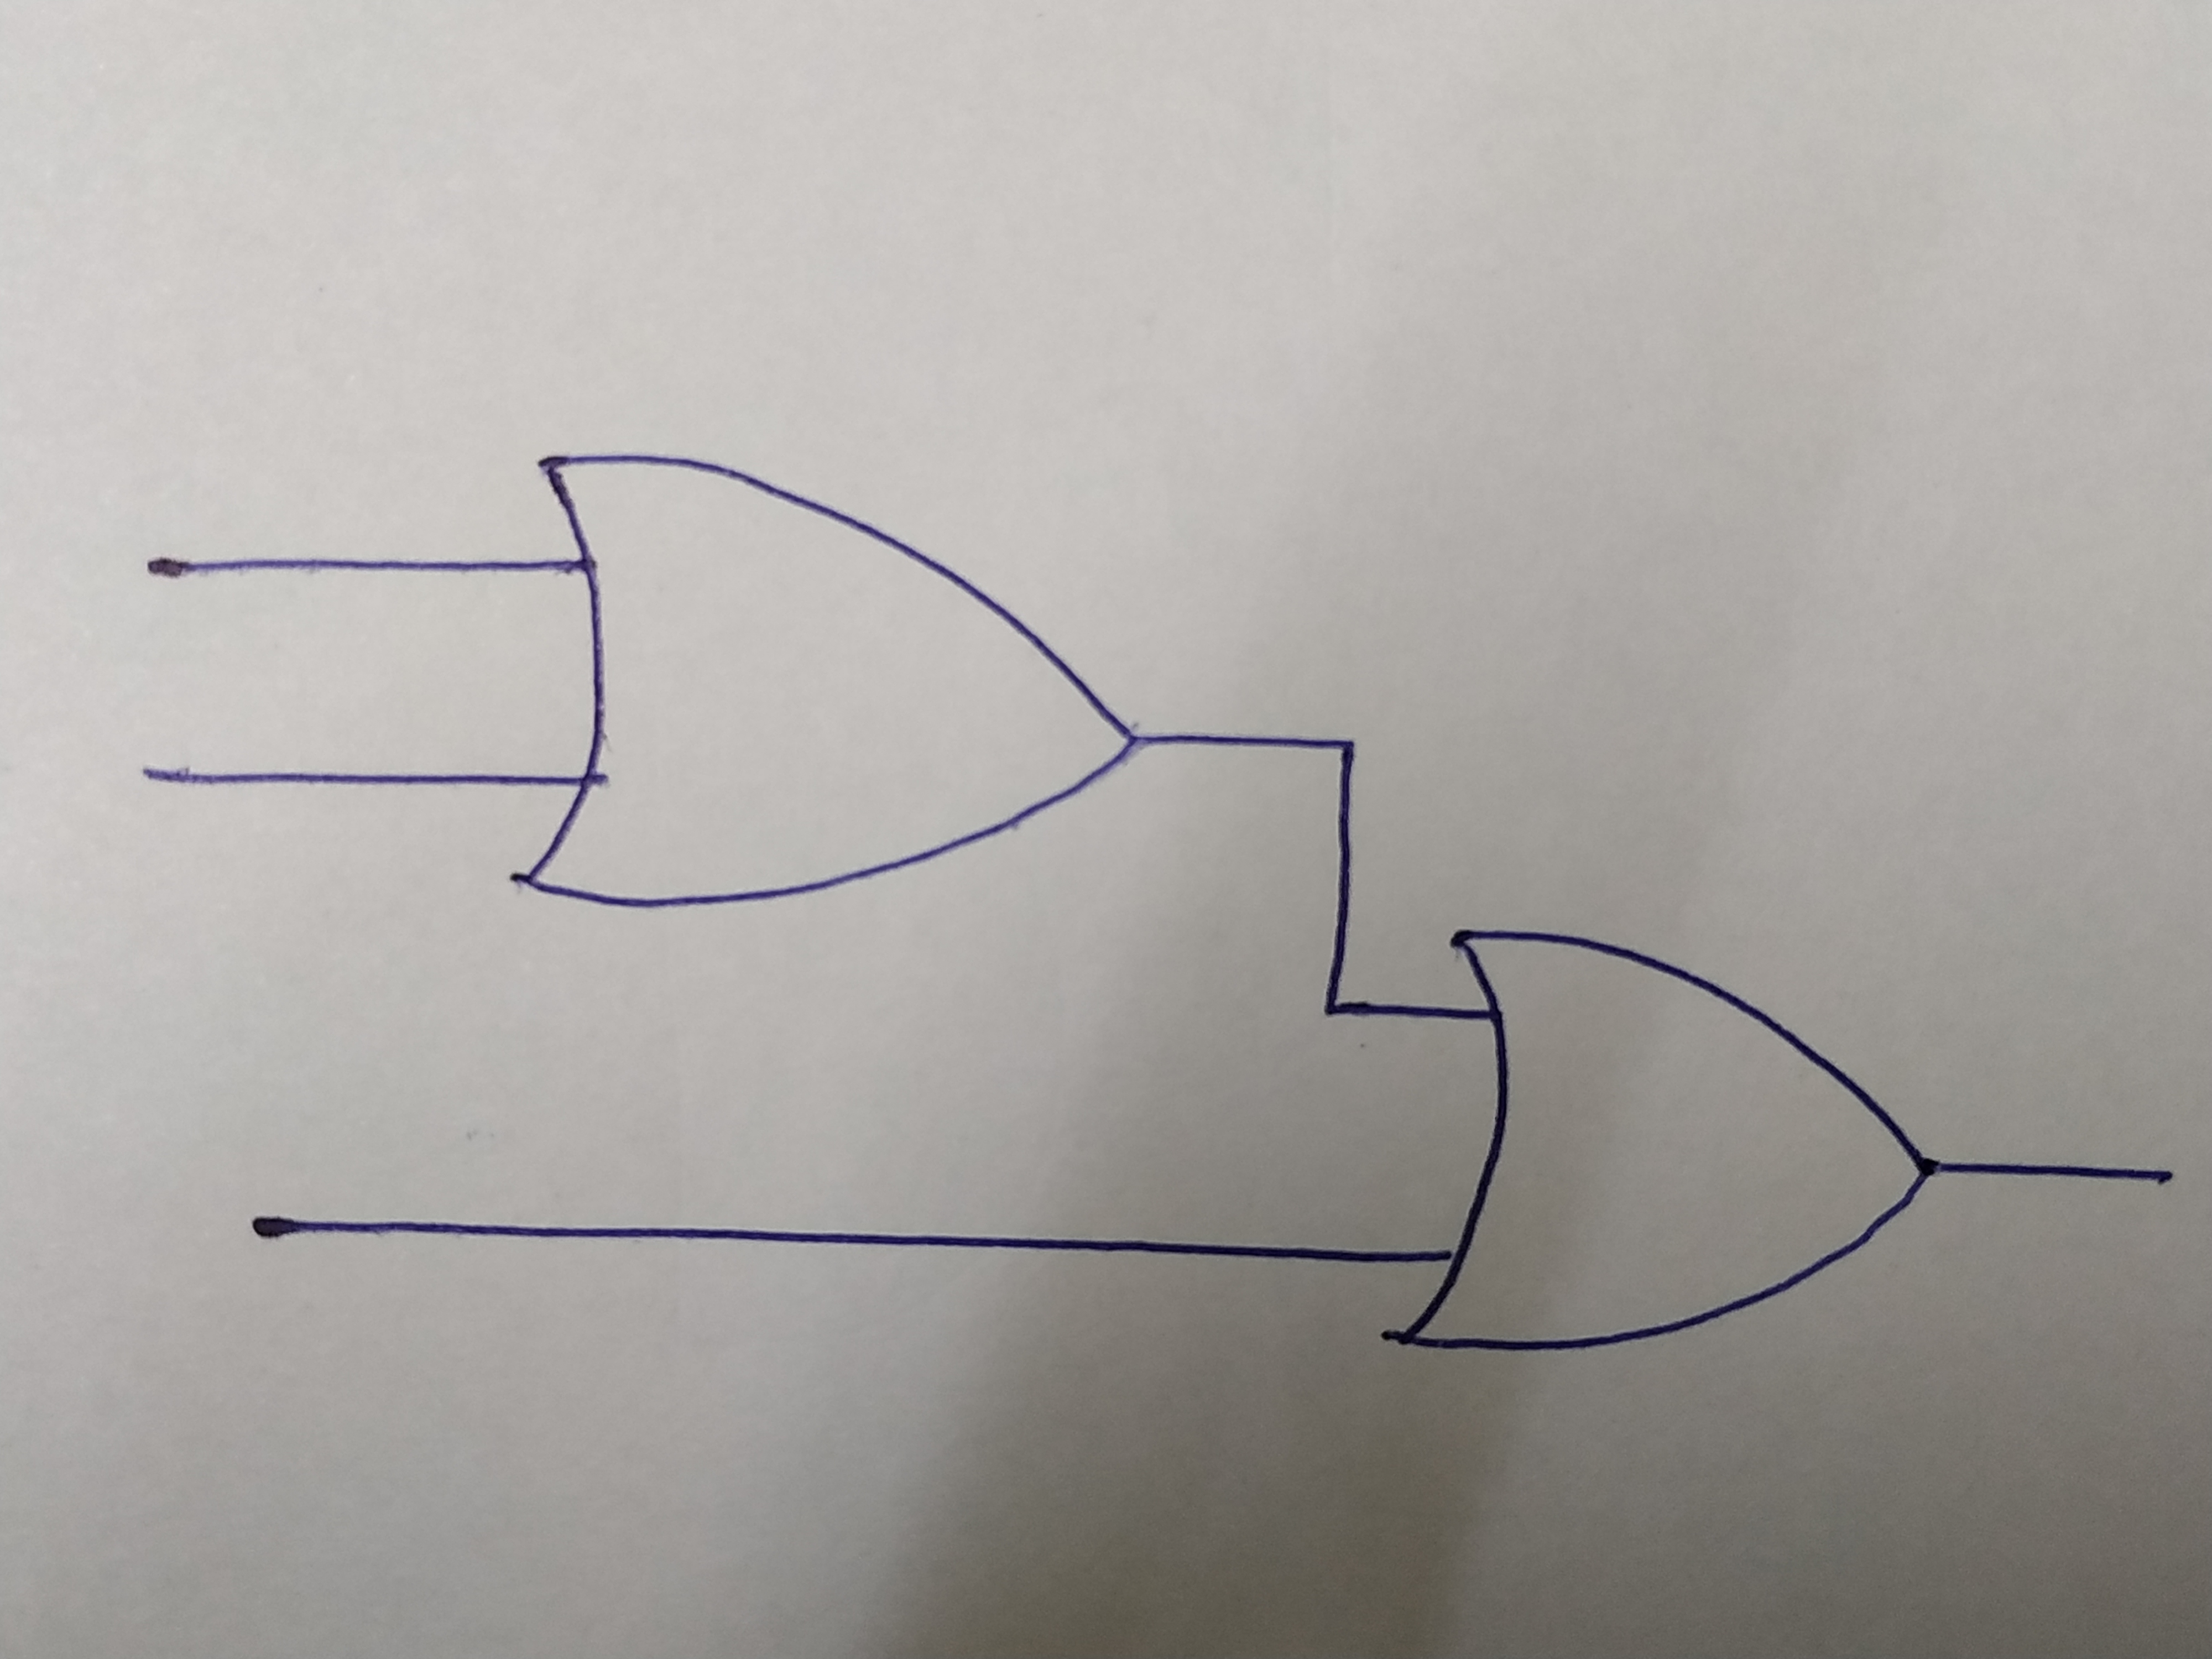or: (521, 451, 1141, 904), (1400, 927, 1937, 1356)
